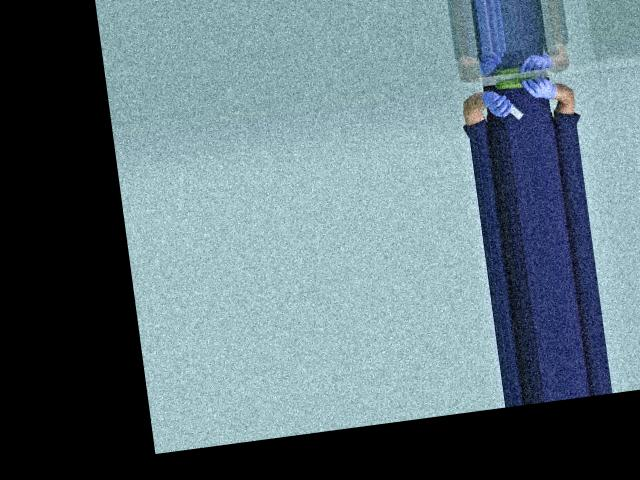cucumber: (494, 75, 534, 90)
